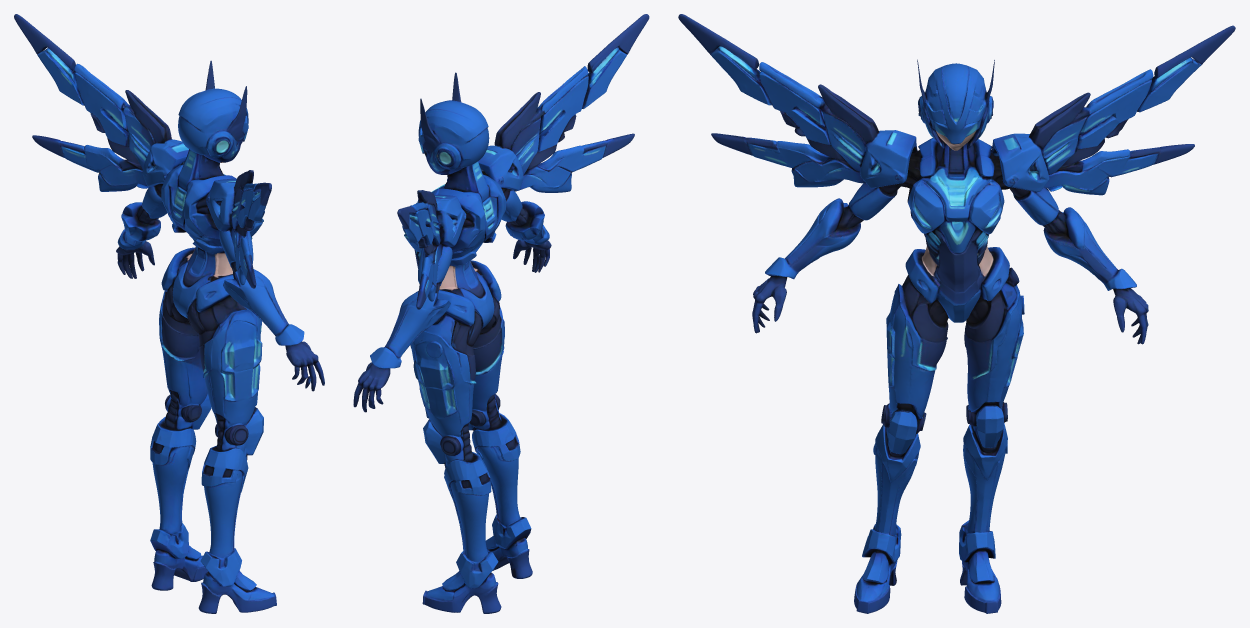
The model's file is model_7433af4b-963d-4b3f-8b39-8aec49a4dce5_draco.glb.
The picture shows the model from 3 angles, left to right: view 1: azimuth 30°, elevation 25°; view 2: azimuth 150°, elevation 25°; view 3: azimuth 270°, elevation 25°; orthographic projection. The views are drawn at different scales.
Parts seen in each view (by area): view 1: tripo_node_7433af4b-963d-4b3f-8b39-8aec49a4dce5; view 2: tripo_node_7433af4b-963d-4b3f-8b39-8aec49a4dce5; view 3: tripo_node_7433af4b-963d-4b3f-8b39-8aec49a4dce5.
Part boxes in pixels (box(x1,y1,x2,y2)): tripo_node_7433af4b-963d-4b3f-8b39-8aec49a4dce5: box(14, 14, 324, 613); tripo_node_7433af4b-963d-4b3f-8b39-8aec49a4dce5: box(353, 14, 649, 613); tripo_node_7433af4b-963d-4b3f-8b39-8aec49a4dce5: box(678, 14, 1235, 613).
Bounding box in the file's own units: 0.2357 × 0.9999 × 0.9073.
Materials: 1 (1 with a texture image).
